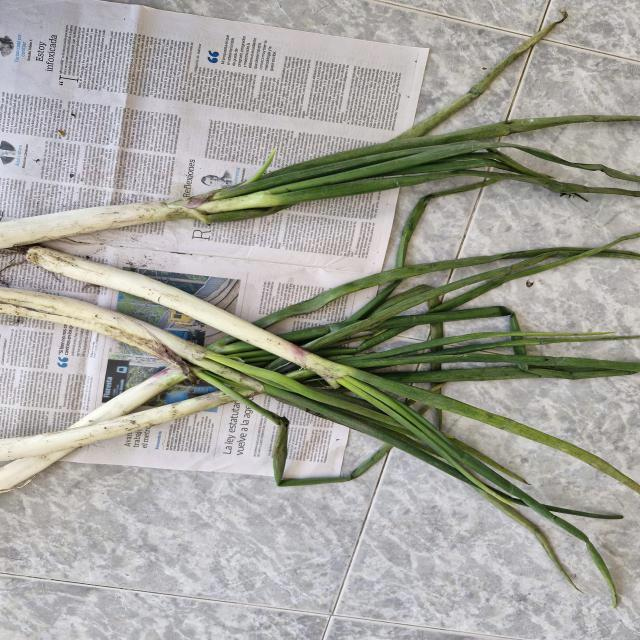green_onion: (7, 132, 516, 250)
